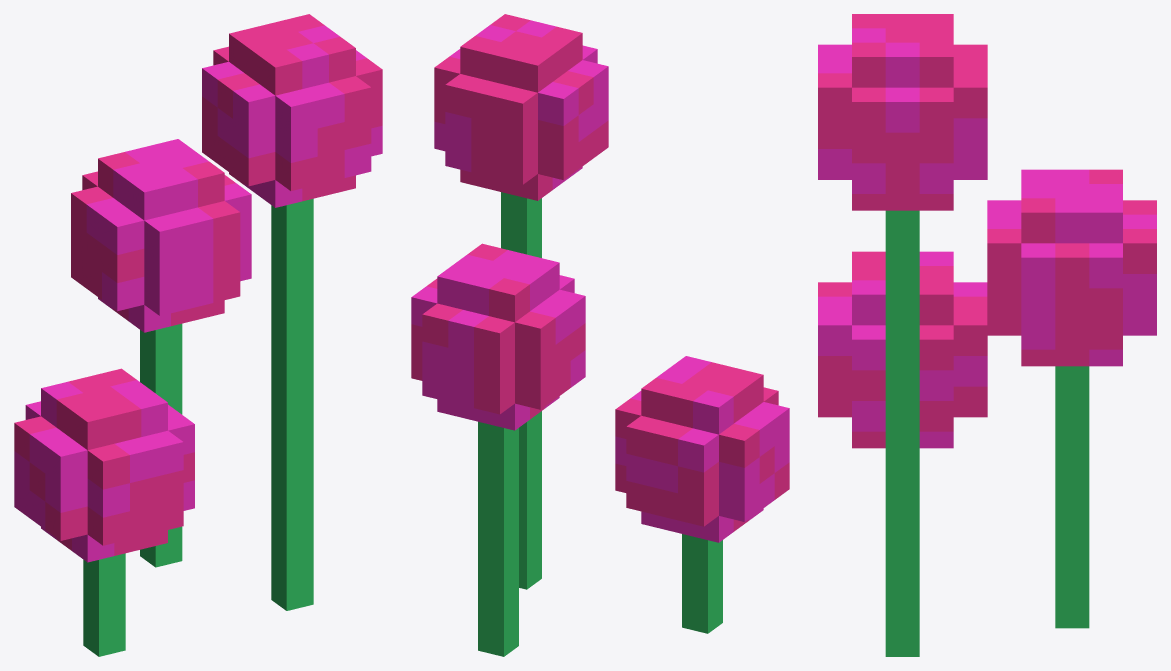
File: map_v1-17.obj
3 renders of one model, left to right at view 1: azimuth 30°, elevation 25°; view 2: azimuth 150°, elevation 25°; view 3: azimuth 270°, elevation 25°, orthographic. The views are drawn at different scales.
Size of the model in its own units: 1.2 by 2 by 1.
Materials: 1 (1 with a texture image).
